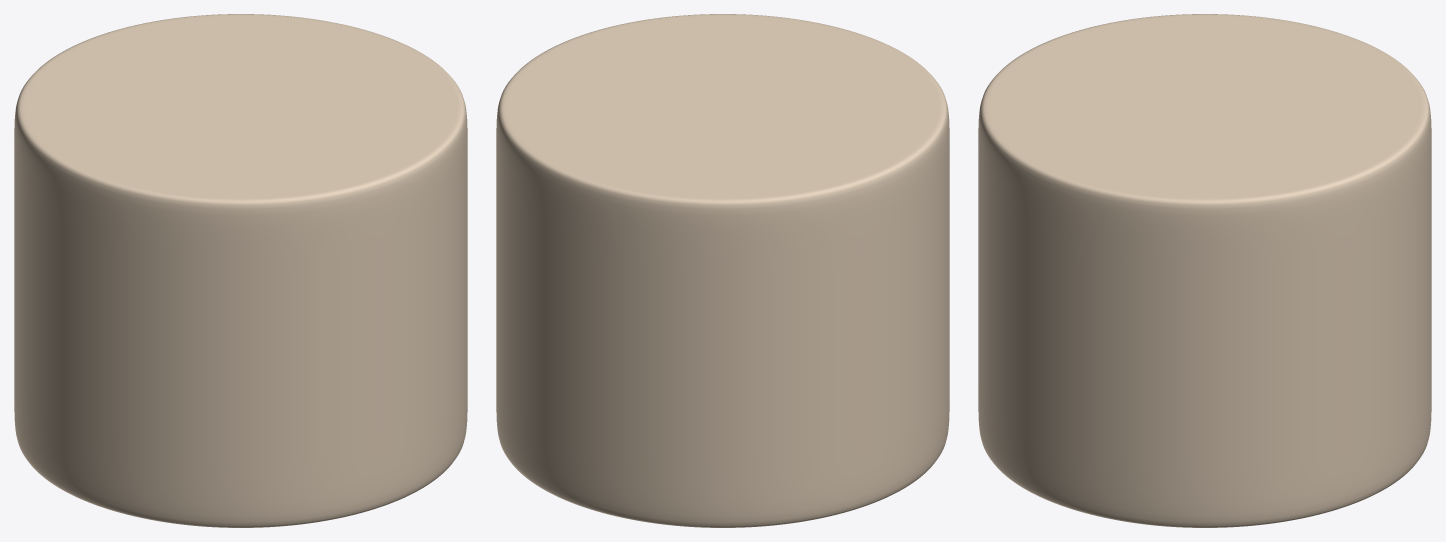
File: Cake_Layer_1_Cream.glb
3 renders of one model, left to right at view 1: azimuth 30°, elevation 25°; view 2: azimuth 150°, elevation 25°; view 3: azimuth 270°, elevation 25°, orthographic.
Visible parts, largest first — view 1: Circle; view 2: Circle; view 3: Circle.
Part boxes in pixels (left/top/right/bottom): Circle: left=14, top=14, right=467, bottom=527; Circle: left=496, top=14, right=949, bottom=527; Circle: left=978, top=14, right=1431, bottom=527.
Size of the model in its own units: 0.15 by 0.12 by 0.15.
